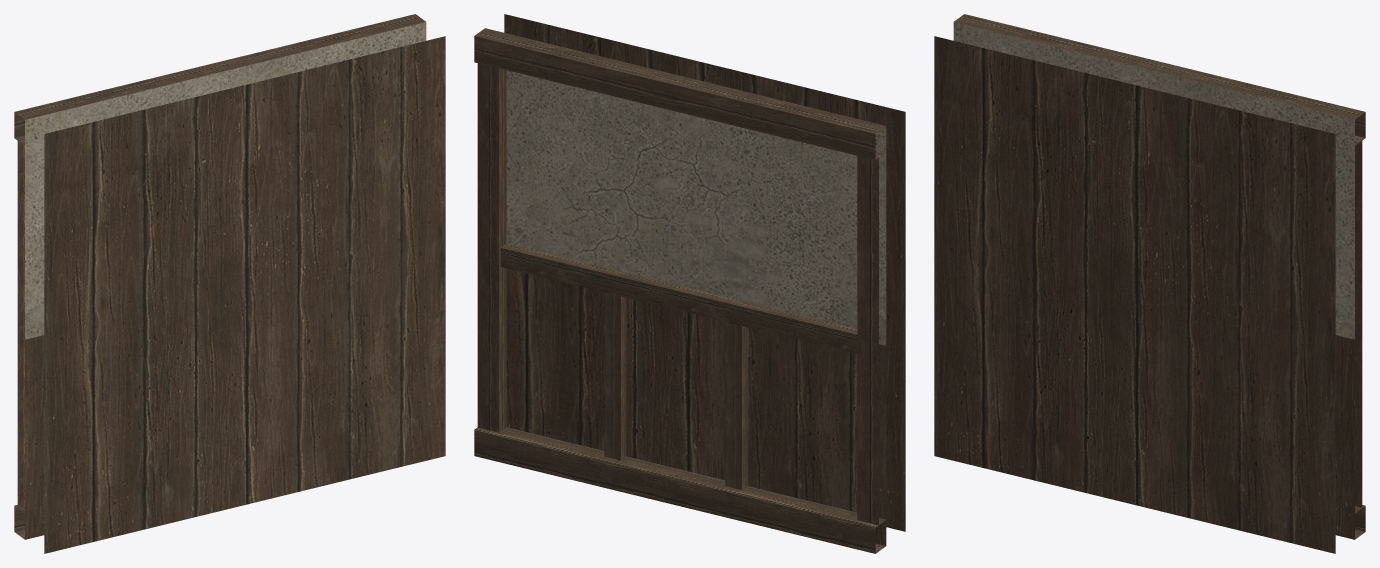
The model's file is ARC1010336.fbx.
3 renders of one model, left to right at view 1: azimuth 30°, elevation 25°; view 2: azimuth 150°, elevation 25°; view 3: azimuth 330°, elevation 25°, orthographic.
Visible parts, largest first — view 1: smARC1010336; view 2: smARC1010336; view 3: smARC1010336.
Boxes of the visible parts, x1,y1,x2,y2 form: smARC1010336: (14, 14, 445, 553); smARC1010336: (474, 14, 905, 553); smARC1010336: (934, 14, 1365, 553).
Bounding box in the file's own units: 268 × 268 × 34.9.
Materials: 1 (1 with a texture image).
